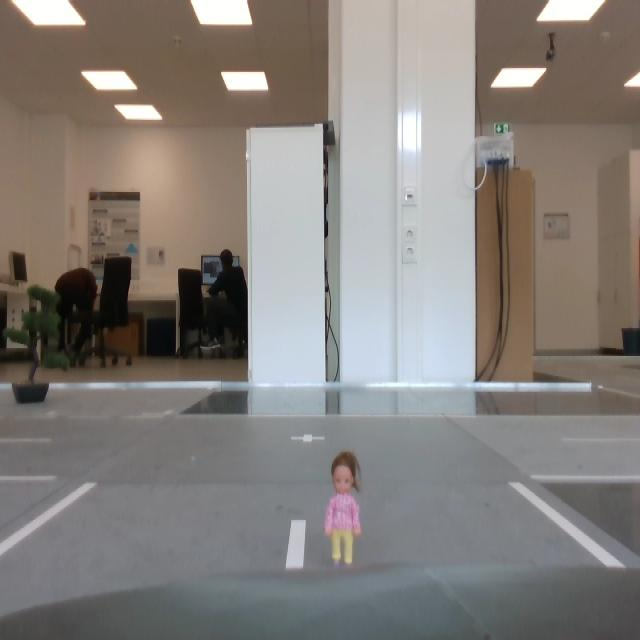person: (325, 448, 365, 569)
potted plant: (5, 284, 70, 404)
